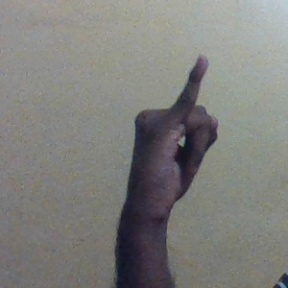I: (128, 54, 219, 215)
